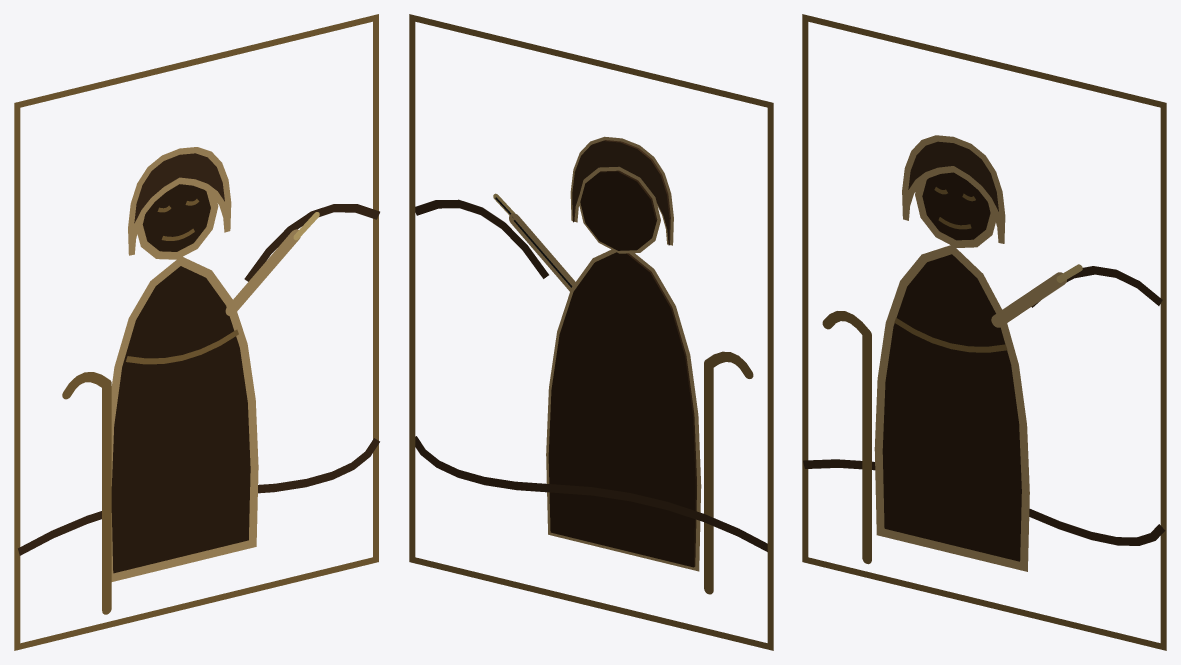
File: npc-starukha-shushan.glb
3 views of the same model, side by side, from view 1: azimuth 30°, elevation 25°; view 2: azimuth 150°, elevation 25°; view 3: azimuth 330°, elevation 25° (orthographic).
Visible parts, largest first — view 1: npc-starukha-shushan; view 2: npc-starukha-shushan; view 3: npc-starukha-shushan.
Part boxes in pixels (left/top/right/bottom): npc-starukha-shushan: left=14, top=14, right=379, bottom=650; npc-starukha-shushan: left=409, top=14, right=773, bottom=650; npc-starukha-shushan: left=802, top=14, right=1166, bottom=650.
Size of the model in its own units: 1.14 by 1.64 by 0.075.
